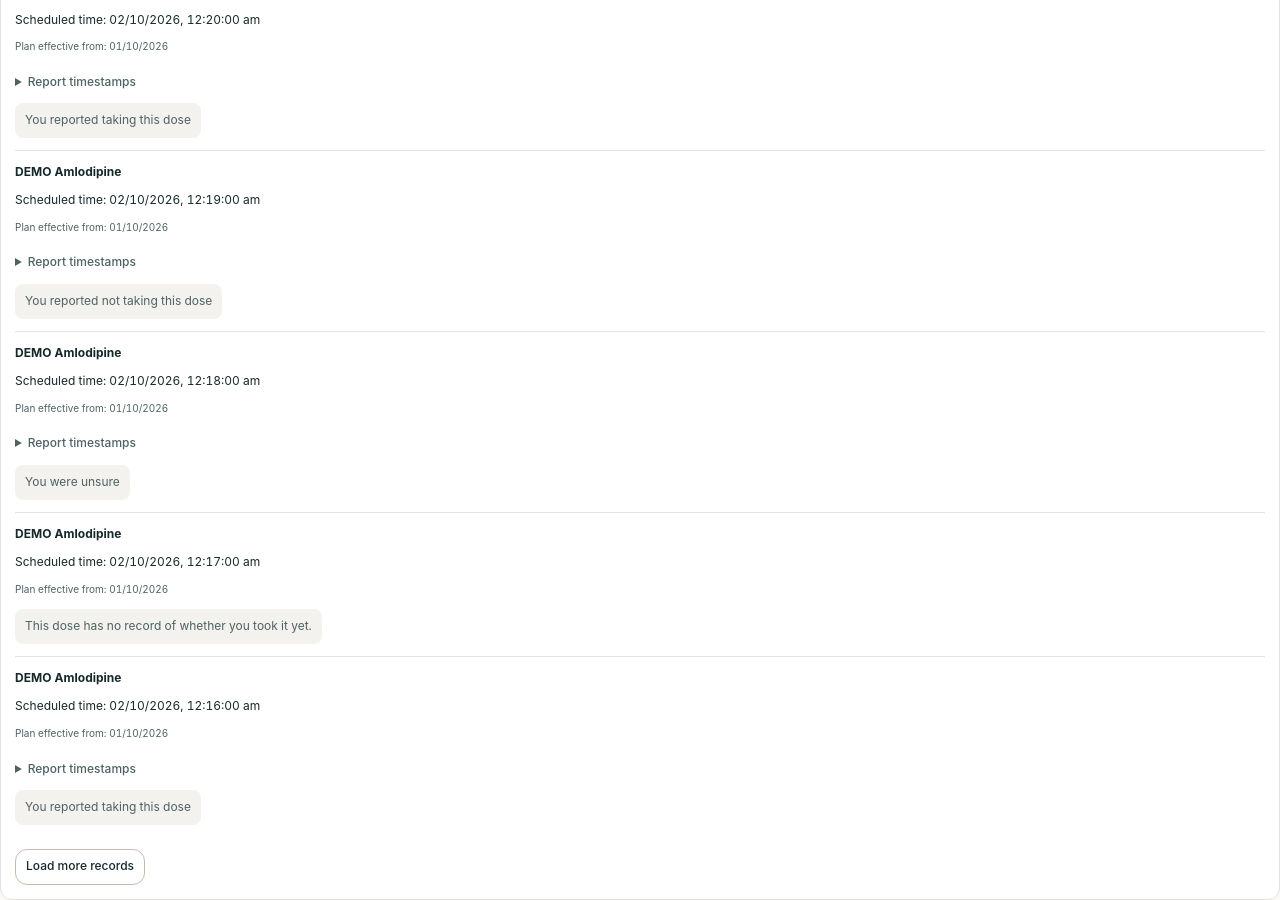
Test: discards an old load-more response after changing the medicine
The width and height of the screenshot is (1280, 900).
(page scrolled)
Click the button "Load more records".
click(80, 867)  # box top-left (15, 849), bottom-right (145, 885)
(page scrolled)
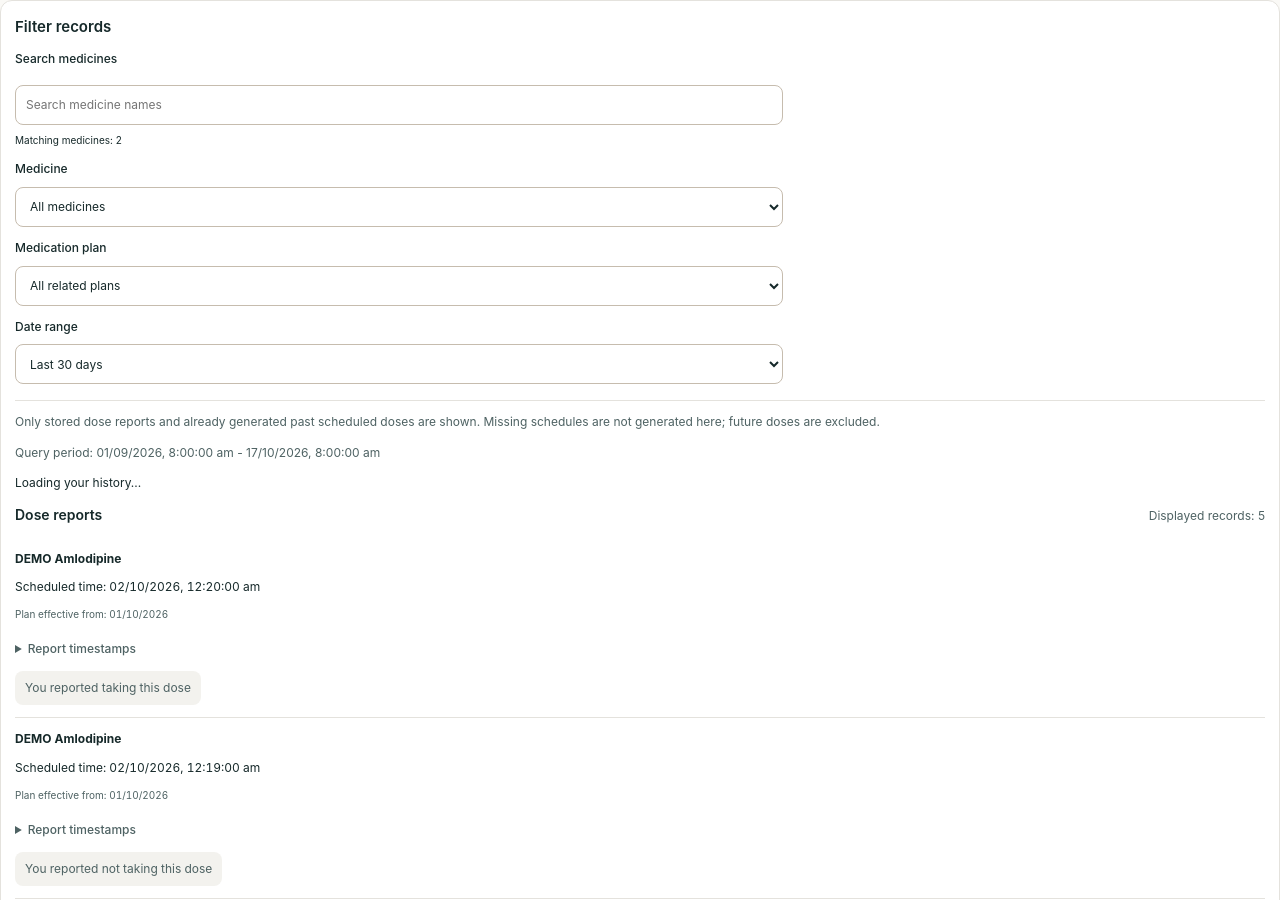
Select "DEMO Metformin" in the dropdown labelled "Medicine" at (399, 207), box top-left (15, 187), bottom-right (783, 227)
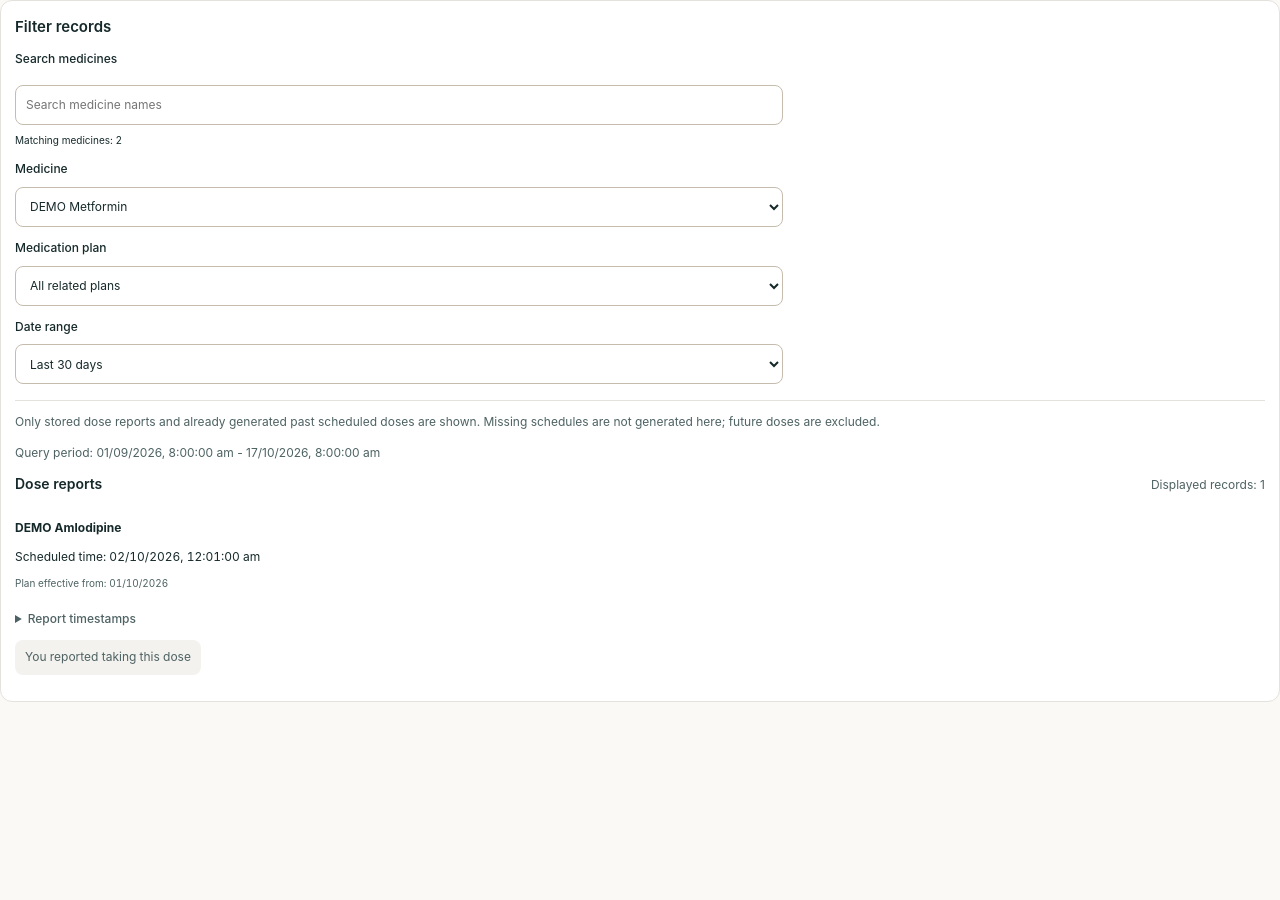
expect the button "Load more records" is not shown: met
expect the text "Displayed records: 1" is shown: met, box top-left (1151, 476), bottom-right (1265, 495)
expect the number of list items is 1: met, box top-left (15, 520), bottom-right (260, 675)
